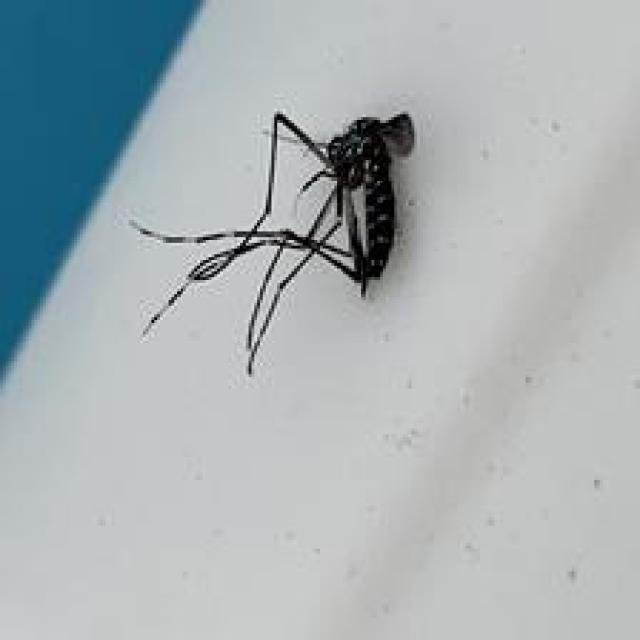Aedes albopictus: (127, 109, 416, 377)
